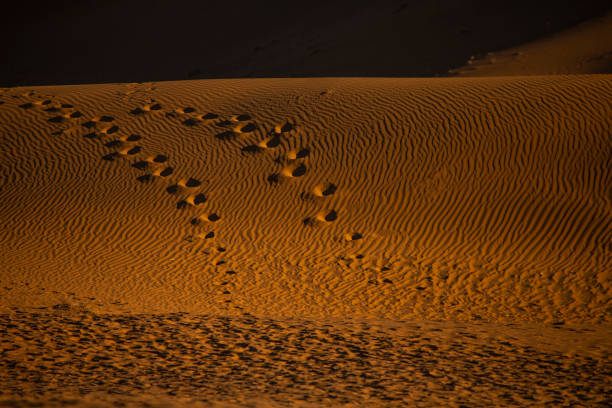animal_foot_print: (2, 81, 495, 313), (499, 146, 611, 276), (241, 133, 282, 153), (303, 209, 337, 225), (177, 193, 207, 209), (130, 101, 161, 114), (190, 212, 220, 225), (280, 163, 306, 177), (287, 148, 310, 161), (313, 183, 336, 196), (275, 122, 295, 132), (144, 155, 166, 162), (344, 232, 362, 240), (158, 167, 173, 176), (187, 178, 200, 186), (127, 147, 140, 154), (203, 113, 218, 119), (126, 135, 140, 140), (177, 107, 194, 111), (71, 111, 81, 117), (99, 117, 113, 121), (206, 232, 213, 238), (218, 246, 225, 251), (228, 270, 235, 274), (216, 261, 224, 264)
